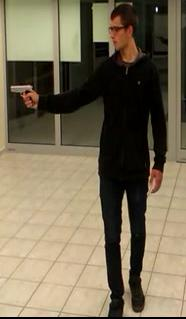pistol: (9, 83, 36, 108)
